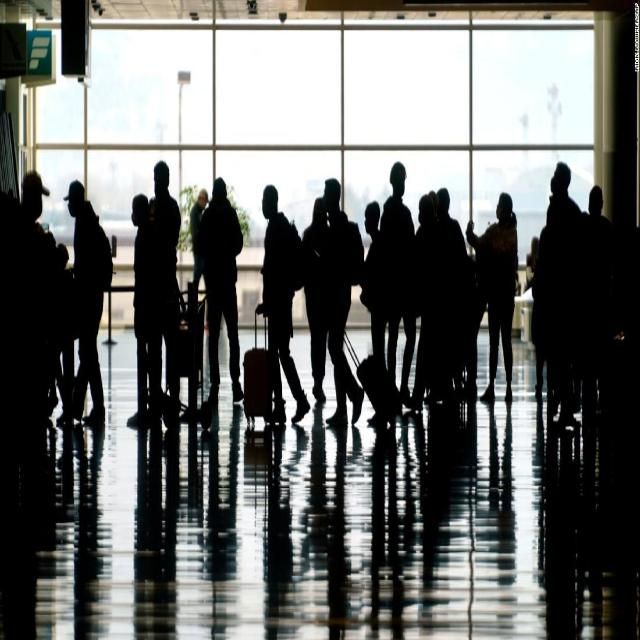Walking: (243, 176, 309, 424), (532, 161, 586, 420), (307, 177, 361, 426), (20, 170, 70, 432), (60, 177, 112, 427), (366, 163, 416, 417), (198, 172, 244, 414), (467, 190, 518, 400), (145, 161, 182, 419), (436, 190, 475, 406), (409, 192, 447, 410), (584, 186, 616, 417), (131, 190, 162, 426), (356, 200, 386, 418), (434, 189, 468, 263), (190, 187, 210, 302)
human: (610, 227, 635, 346), (22, 171, 50, 225)
loitering: (543, 163, 583, 232), (381, 162, 415, 238)
